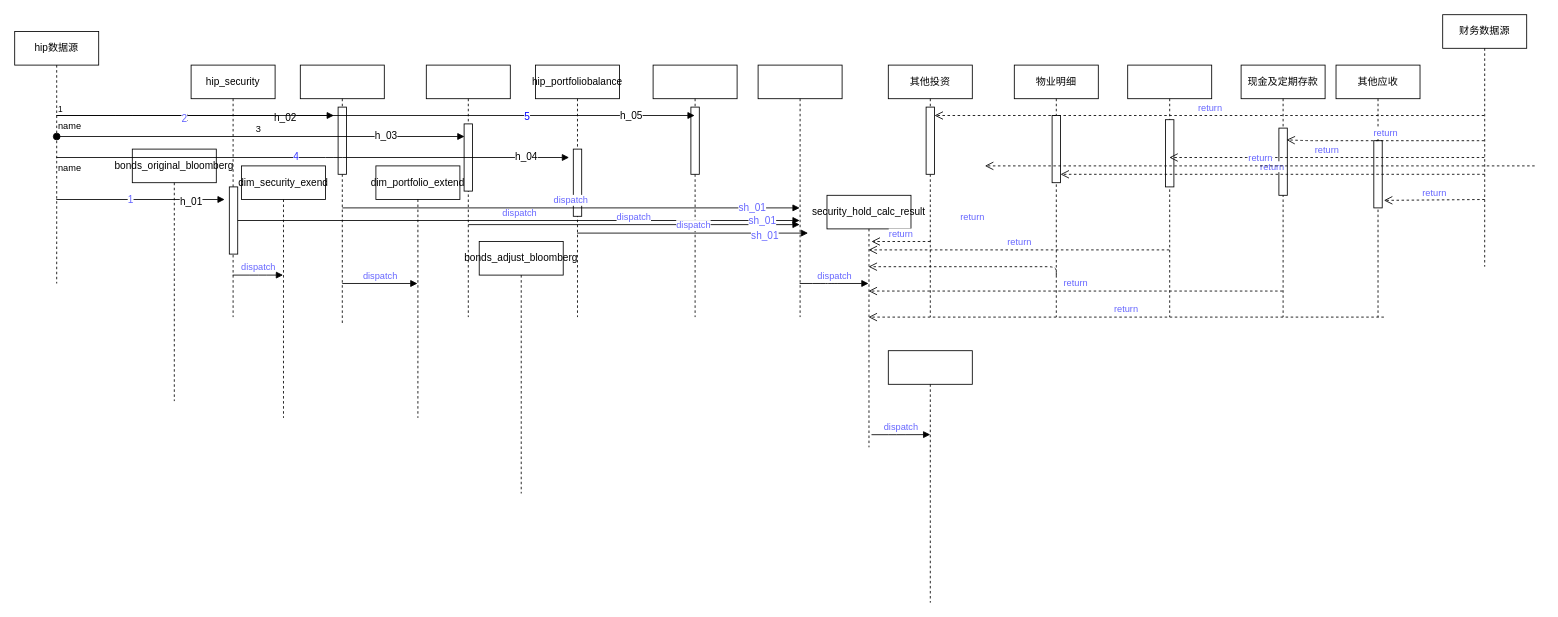
The diagram is 1558 pixels wide and 617 high, and some of its shapes have lost their labels. Here are the shapes that lost their labels. From the top down, the box of each, then its label:
(299, 64, 384, 326): hip_portfolio
(425, 64, 510, 317): hip_valuatioon
(652, 64, 737, 317): hip_currency
(757, 64, 842, 317): security_hold_data
(1127, 64, 1212, 317): 资产负债
(887, 350, 972, 603): security_hold_fact
